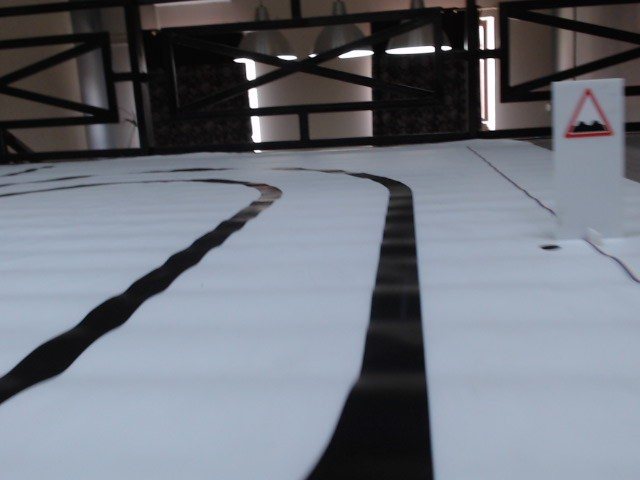Nerov: (559, 87, 618, 142)
